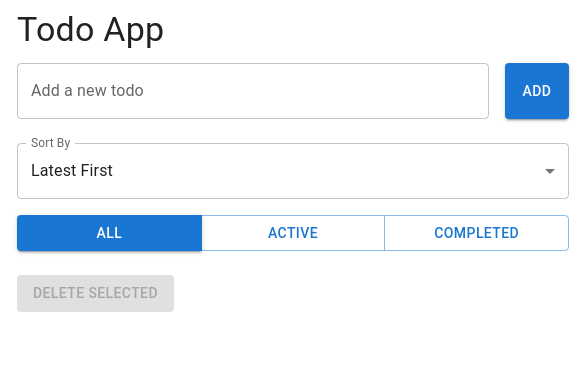
Test case: Todo App › should add a new todo item
Type "Test Todo" into the field labelled "Add a new todo" at (253, 91), box [17,63,489,119]
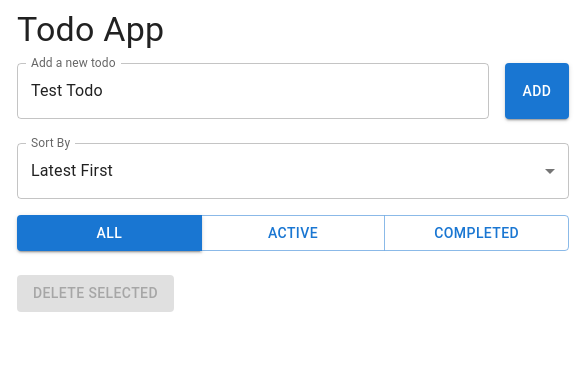
Click the button "Add" at (537, 91), box [505,63,569,119]
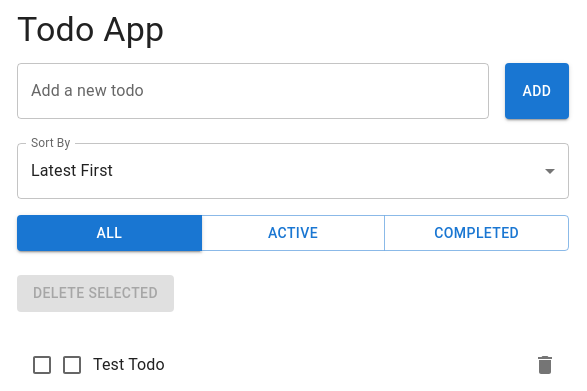
Check: the text "Test Todo" is shown, box [93,355,165,374]
